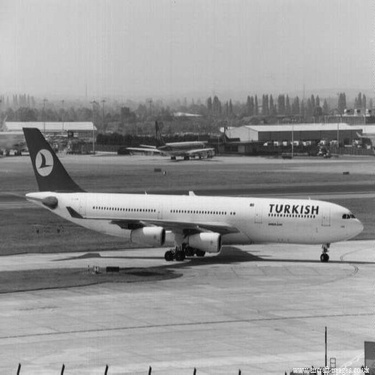airplane: (7, 111, 365, 279), (107, 118, 224, 169)
